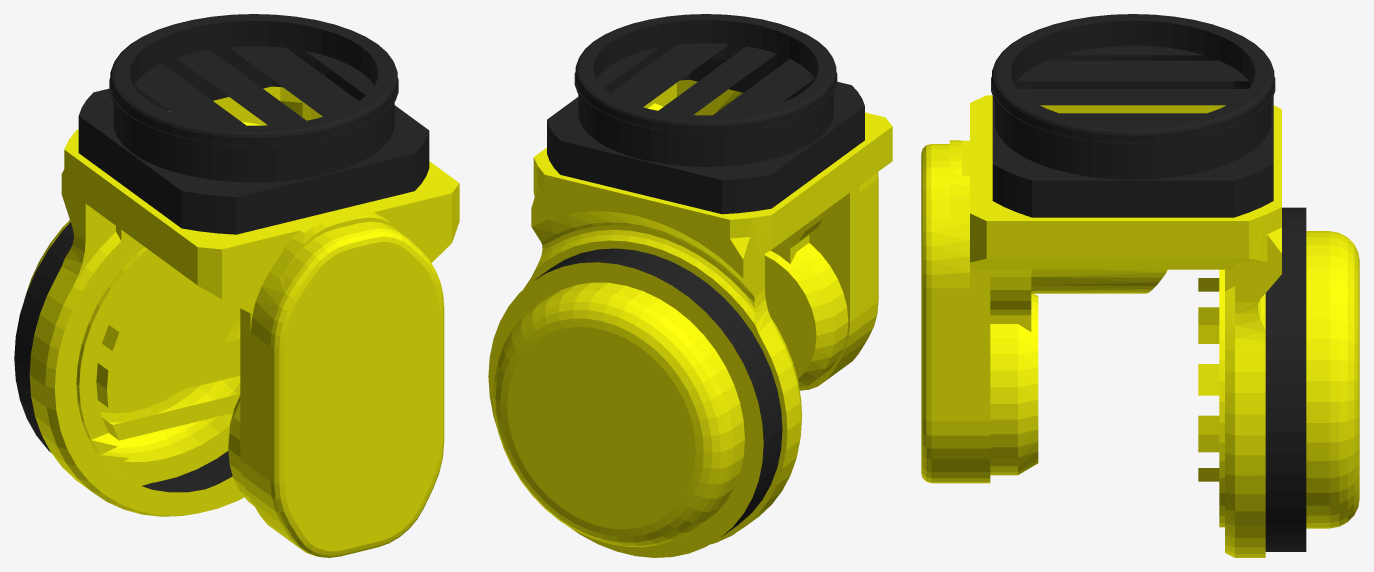
3 views of the same model, side by side, from view 1: azimuth 30°, elevation 25°; view 2: azimuth 150°, elevation 25°; view 3: azimuth 270°, elevation 25° (orthographic). The views are drawn at different scales.
Parts seen in each view (by area): view 1: node; view 2: node; view 3: node.
Boxes of the visible parts, x1=… form: node: x1=14, y1=14, x2=459, y2=557; node: x1=488, y1=14, x2=892, y2=557; node: x1=921, y1=14, x2=1359, y2=557.
Bounding box in the file's own units: 175 × 254 × 215.
